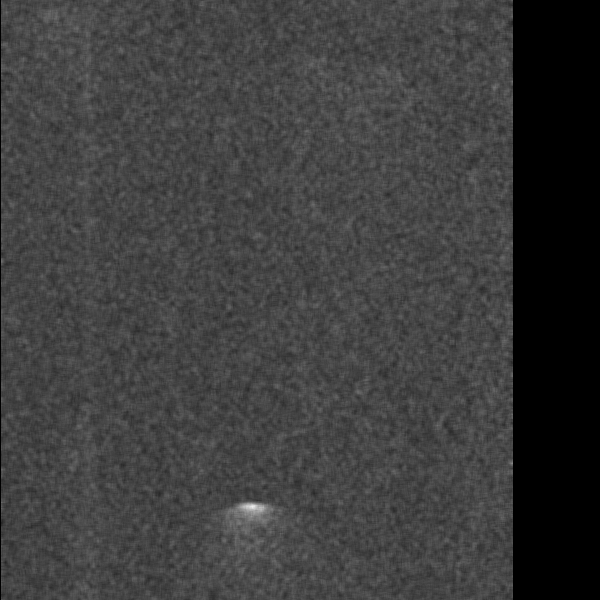spark: (227, 498, 272, 550)
